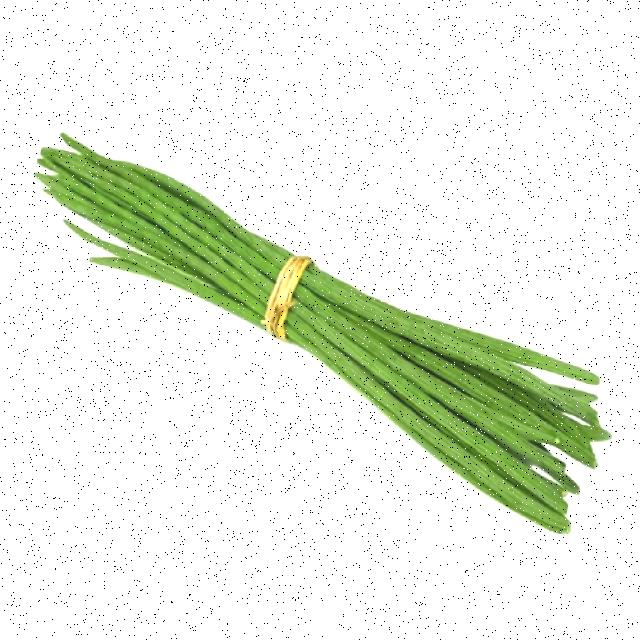Moringa Drumsticks: (19, 104, 635, 567)
